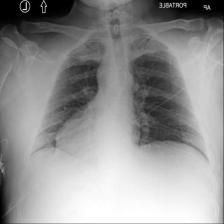normal: (25, 29, 214, 171)
